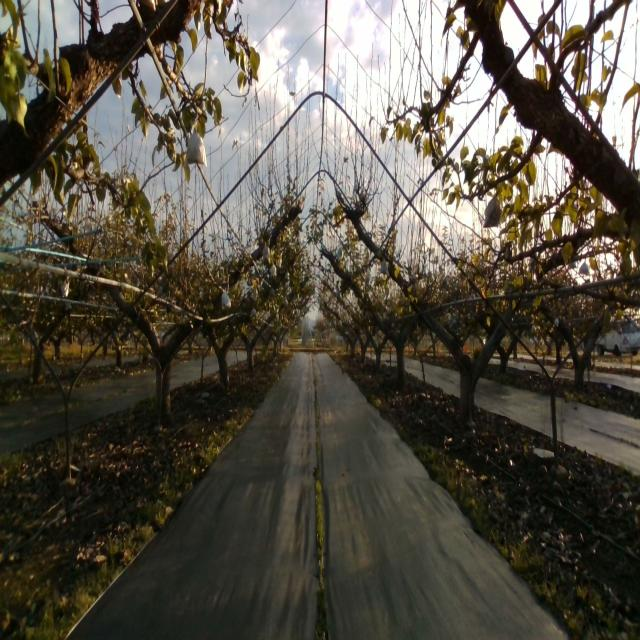pearbags: (184, 126, 206, 166), (483, 188, 502, 229), (221, 287, 231, 309), (379, 258, 390, 276)
